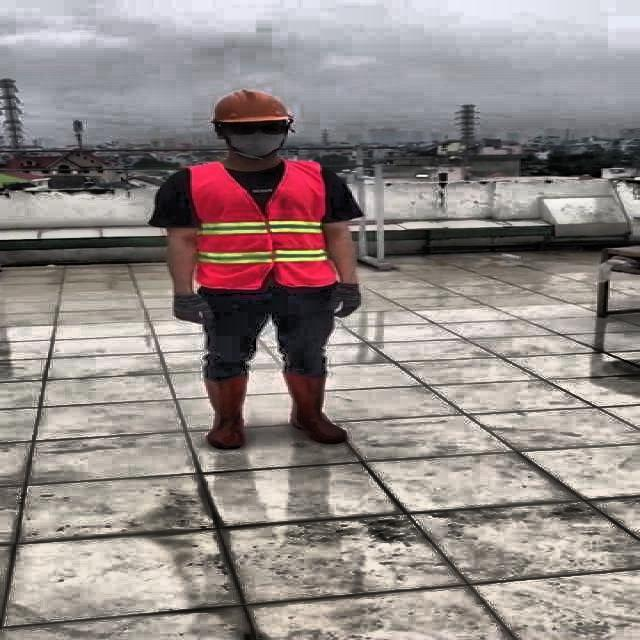safety_jacket: (184, 162, 340, 289)
